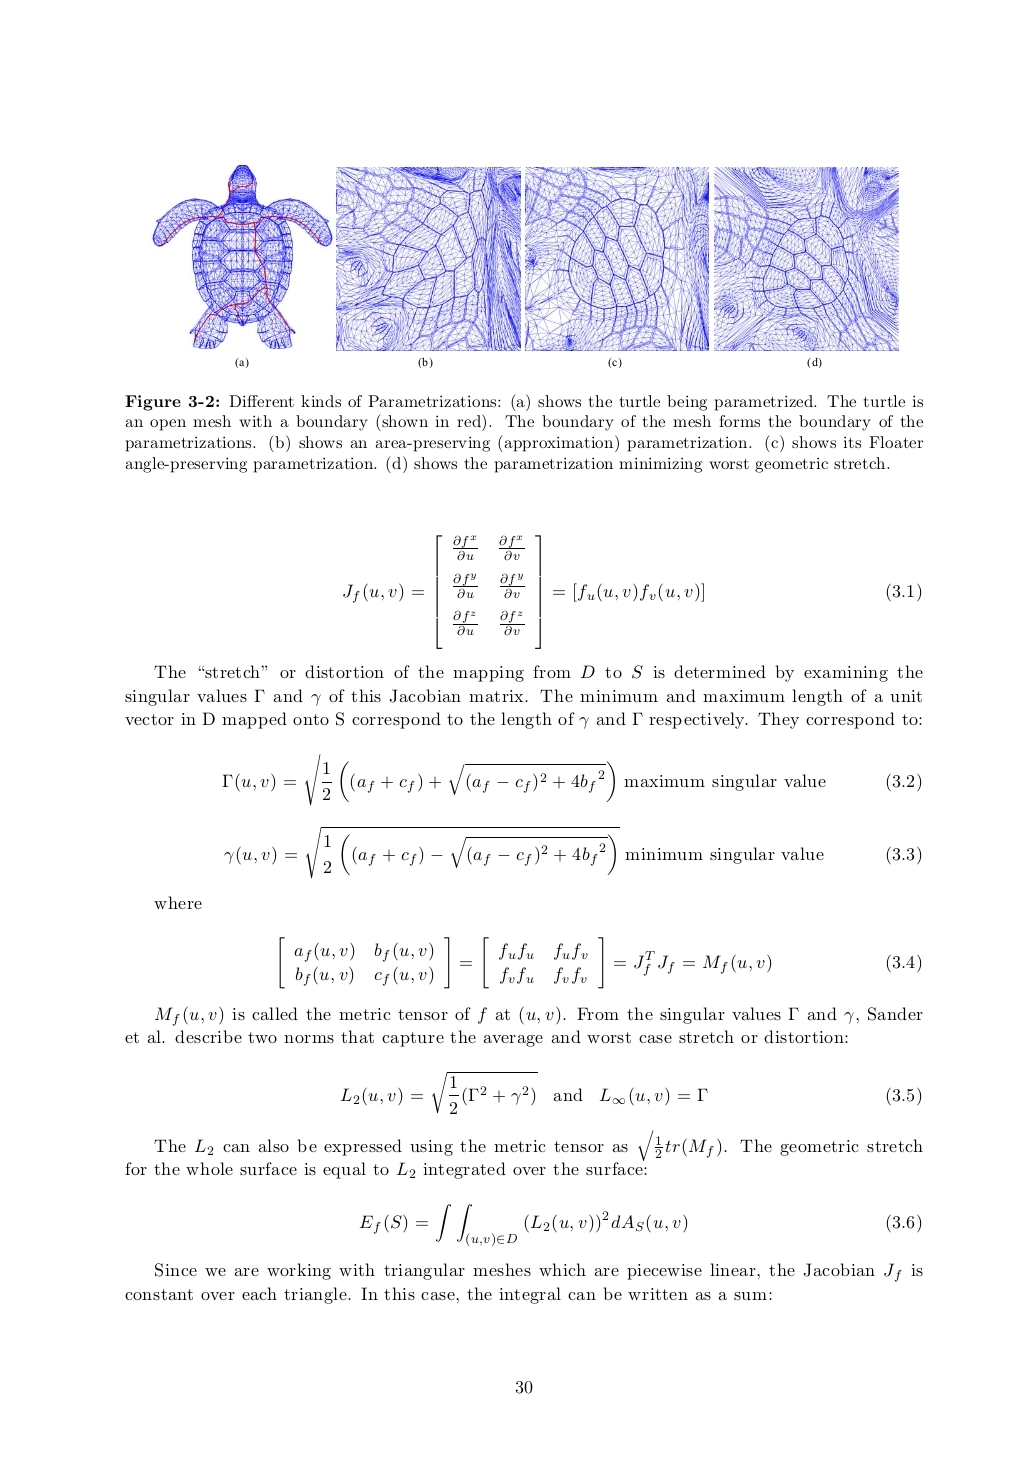figure: (714, 167, 898, 350), (336, 167, 519, 350), (526, 167, 709, 350), (152, 165, 325, 348)
formula: (343, 534, 921, 649), (222, 753, 921, 806), (224, 825, 921, 879), (279, 935, 921, 989), (340, 1071, 921, 1114), (359, 1202, 921, 1247)
